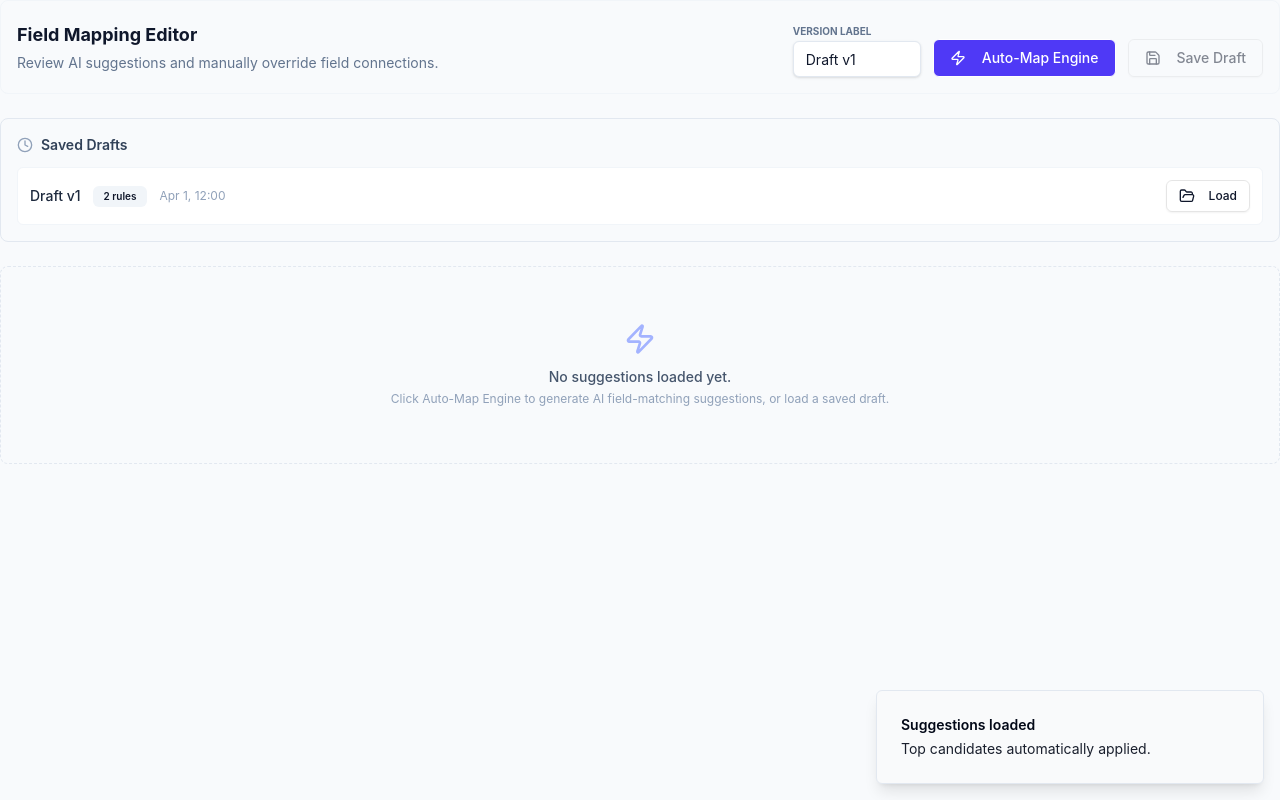
Saved Drafts › shows a banner and pre-fills version label after loading a draft
Click the button "Load". click: (1208, 196)
box: [1166,180,1250,212]
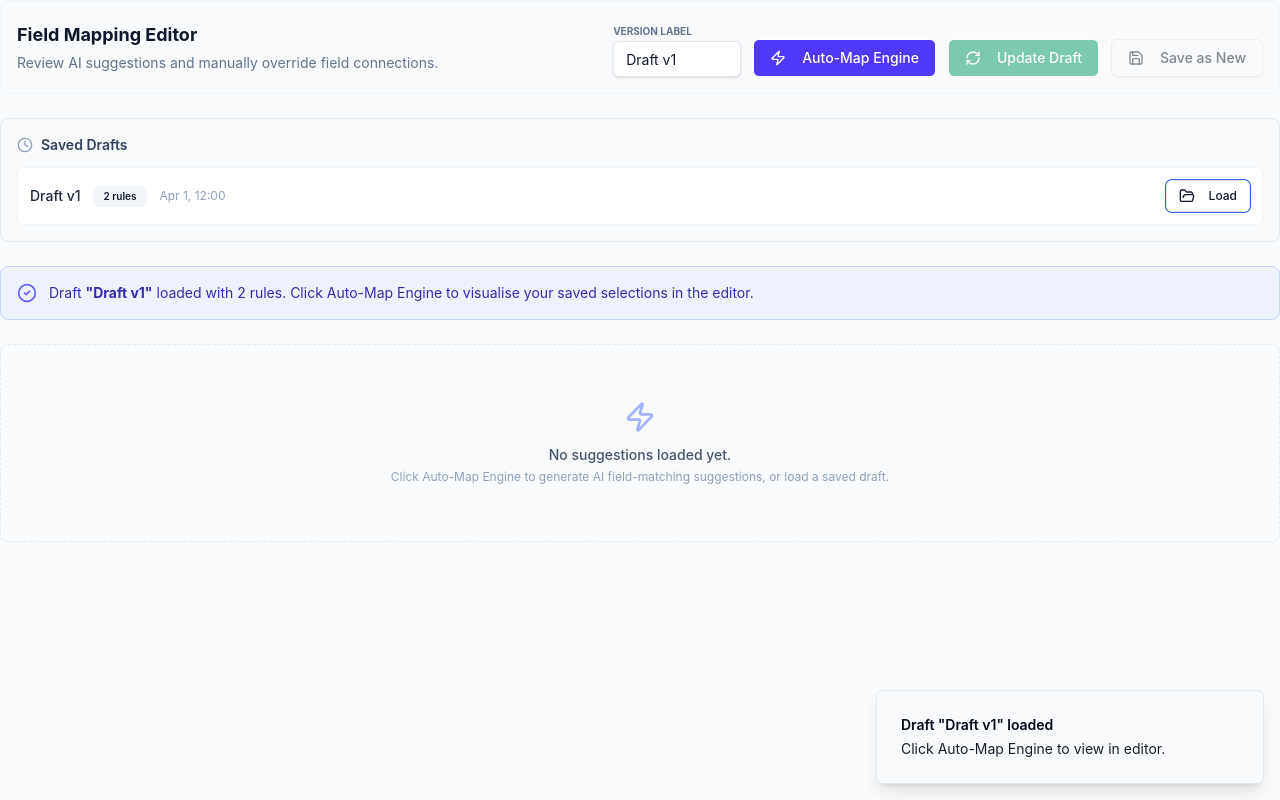
Check: the field with placeholder "e.g. Draft v1" holds "Draft v1", box [613,41,741,77]
Check: the text "Draft \"Draft v1\" loaded" is shown, box [901,716,1053,733]
